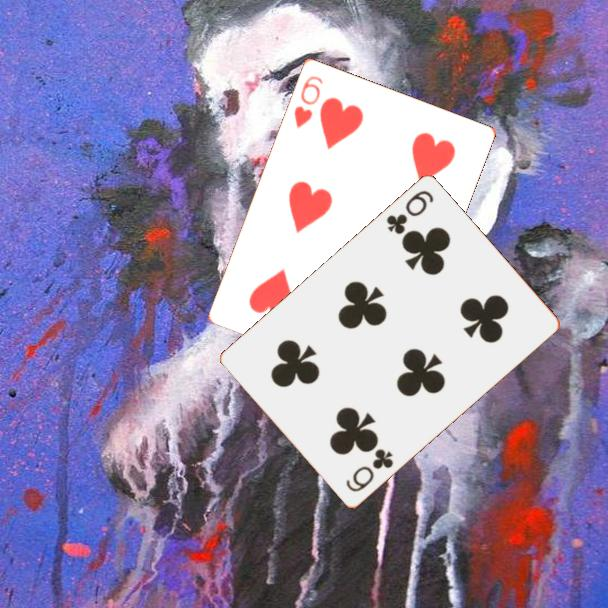c06: (342, 445, 396, 496), (382, 187, 436, 238)
h06: (290, 72, 326, 131)
